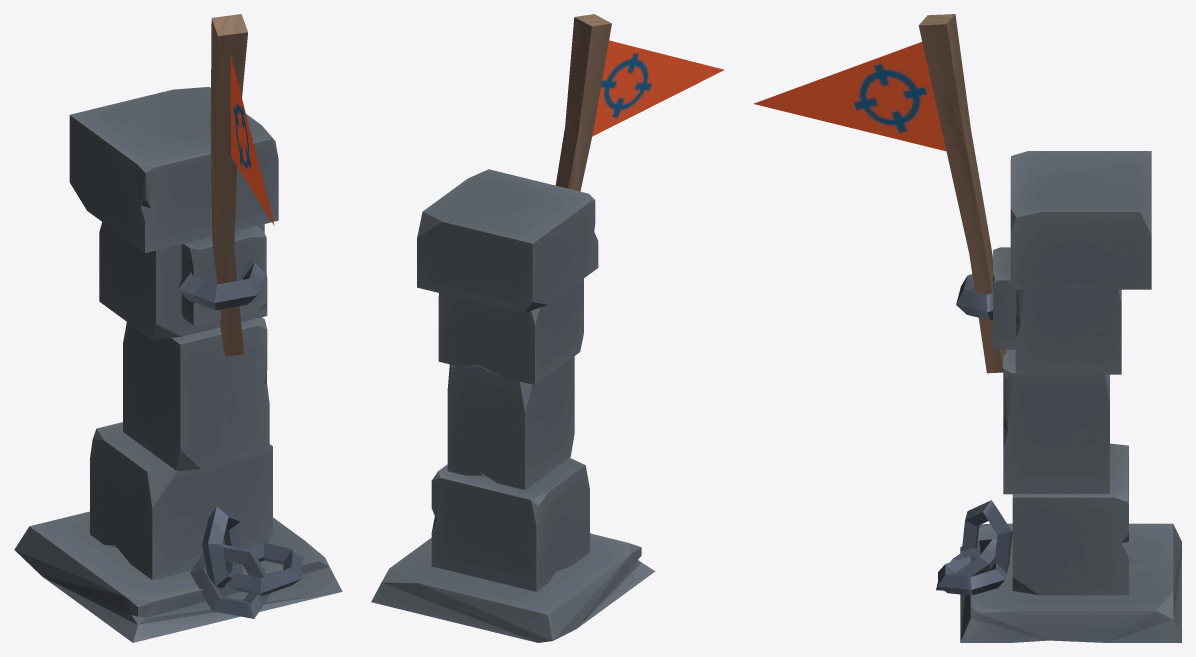
The model's file is Pillar1B-009_02_10_9021.fbx.
3 views of the same model, side by side, from view 1: azimuth 30°, elevation 25°; view 2: azimuth 150°, elevation 25°; view 3: azimuth 270°, elevation 25° (orthographic). The views are drawn at different scales.
Visible parts, largest first — view 1: 1B_Pillar, Wood1.002 (1), ChainLink (1), ChainLink (2), Flag1.001 (1), ChainLink, ChainLink (3); view 2: 1B_Pillar, Flag1.001 (1), Wood1.002 (1); view 3: 1B_Pillar, Flag1.001 (1), Wood1.002 (1), ChainLink (3), ChainLink (2), ChainLink, ChainLink (1).
Part boxes in pixels (x1,y1,x2,y2): 1B_Pillar: (14,87,342,642); Wood1.002 (1): (210,14,247,356); ChainLink (1): (190,544,271,618); ChainLink (2): (225,542,303,595); Flag1.001 (1): (230,54,274,225); ChainLink: (178,260,264,310); ChainLink (3): (202,506,245,588); 1B_Pillar: (371,169,655,642); Flag1.001 (1): (592,40,724,136); Wood1.002 (1): (555,14,611,191); 1B_Pillar: (960,151,1181,642); Flag1.001 (1): (753,42,946,151); Wood1.002 (1): (918,14,1006,373); ChainLink (3): (961,500,1012,572); ChainLink (2): (938,556,1005,595); ChainLink: (956,274,992,320); ChainLink (1): (936,539,996,590).
Bounding box in the file's own units: 2.06 × 5.72 × 3.9.
